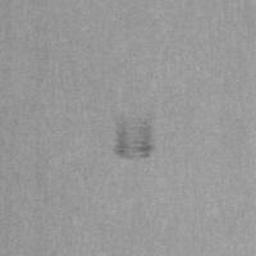Oil spot: (113, 114, 155, 160)
